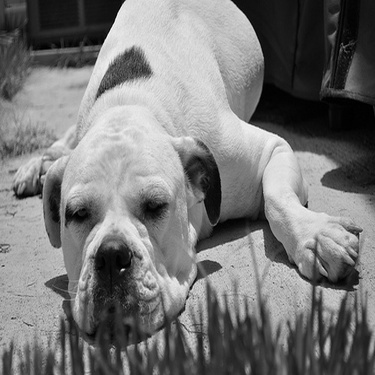dog: (13, 1, 365, 344)
